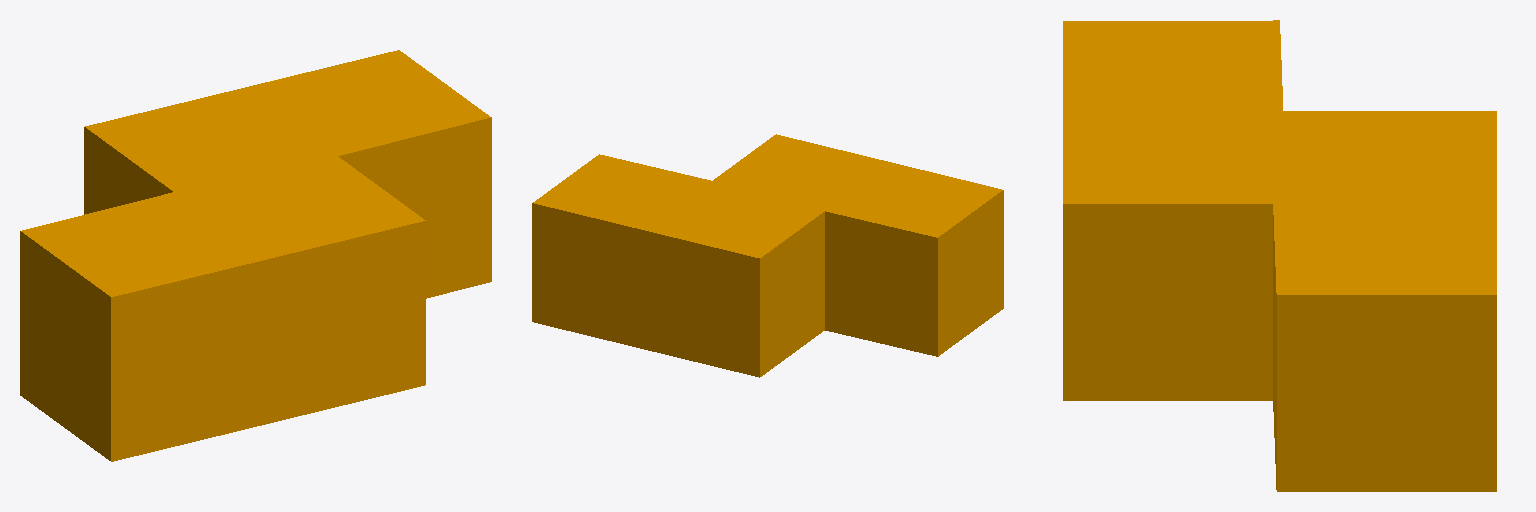
robot.urdf — 2_3Z_0:
<robot name="2_3Z_0">
  <link name="link">
    <visual>
      <geometry>
        <mesh filename="2_3Z_0.obj" scale="1 1 1"/>
      </geometry>
    </visual>
    <collision>
      <geometry>
        <mesh filename="2_3Z_0.obj" scale="1 1 1"/>
      </geometry>
    </collision>
    <inertial>
      <mass value="1"/>
      <inertia ixx="1" iyy="1" izz="1" ixy="0" ixz="0" iyz="0"/>
      <origin xyz="0 0 0" rpy="0 0 0"/>
    </inertial>
  </link>
</robot>

--- What the picture shows (computed from the rendered views, not written in the file) ---
The picture shows the robot from 3 angles, left to right: view 1: azimuth 30°, elevation 25°; view 2: azimuth 150°, elevation 25°; view 3: azimuth 270°, elevation 25°; orthographic projection.
Robot: 2_3Z_0 — 1 links, 0 joints (none); root link link; default pose: all joints at 0.
Visible links, largest first — view 1: link; view 2: link; view 3: link.
Boxes of the visible links, x1=… form: link: x1=20, y1=50, x2=491, y2=461; link: x1=532, y1=134, x2=1003, y2=377; link: x1=1063, y1=20, x2=1496, y2=491.
Bounding box of the posed robot: 0.1767 × 0.1184 × 0.0592 m (x, y, z).
Meshes: 1 distinct files referenced, 1 mesh visuals loaded (1 OBJ).